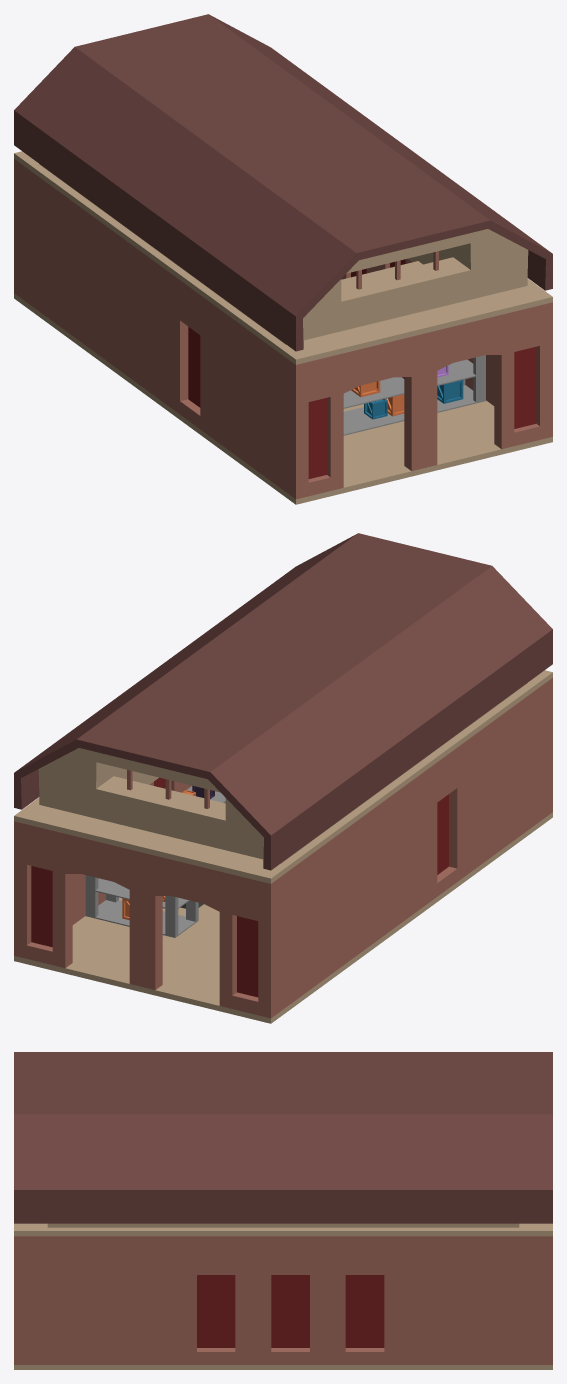
File: Storage_Area.fbx
The picture shows the model from 3 angles, top to bottom: view 1: azimuth 30°, elevation 25°; view 2: azimuth 150°, elevation 25°; view 3: azimuth 270°, elevation 25°; orthographic projection. The views are drawn at different scales.
Parts seen in each view (by area): view 1: Storage_House; view 2: Storage_House; view 3: Storage_House.
Part boxes in pixels (left/top/right/bottom): Storage_House: left=14, top=14, right=552, bottom=504; Storage_House: left=14, top=533, right=552, bottom=1023; Storage_House: left=14, top=1052, right=552, bottom=1369.
Bounding box in the file's own units: 1600 × 1409 × 3040.
